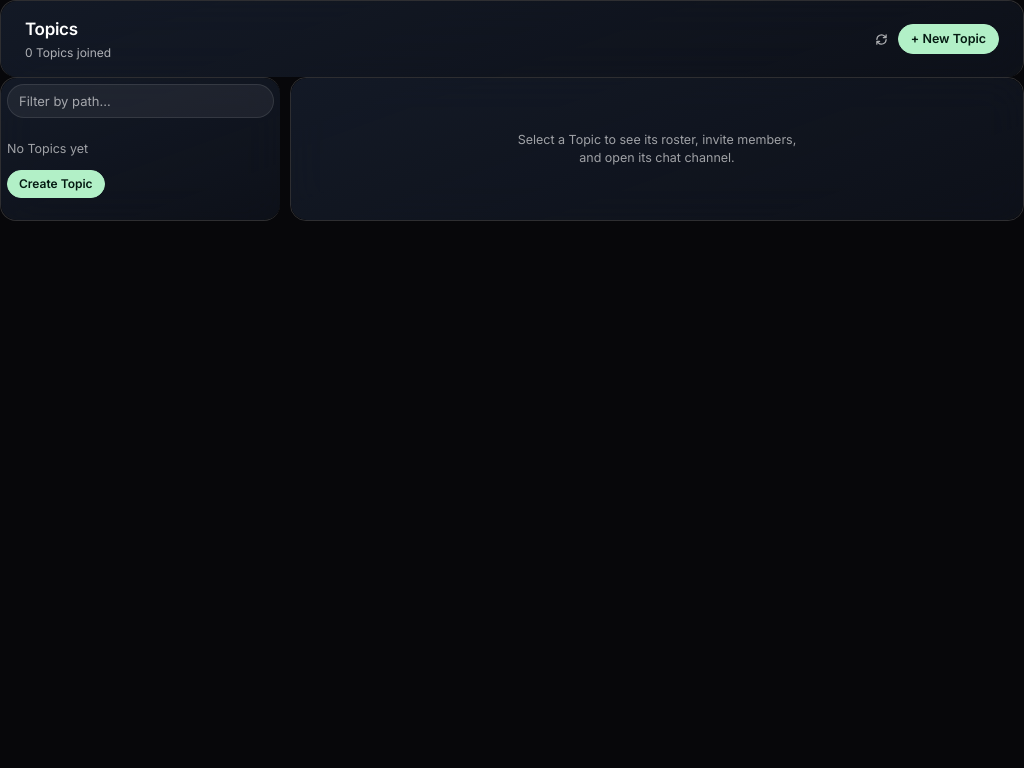
Test: QURATOR-148 — aliveness gates the discovery sidebar › the genuine empty carries a Create Topic action that opens the create modal (QURATOR-390)
Exact accessible name — the toolbar's "+ New Topic" must not satisfy this.
What coordinates should you click on to do the following:
click the button "Create Topic"
I would click on:
 (56, 184)
Its box is x1=7 y1=170 x2=105 y2=198.
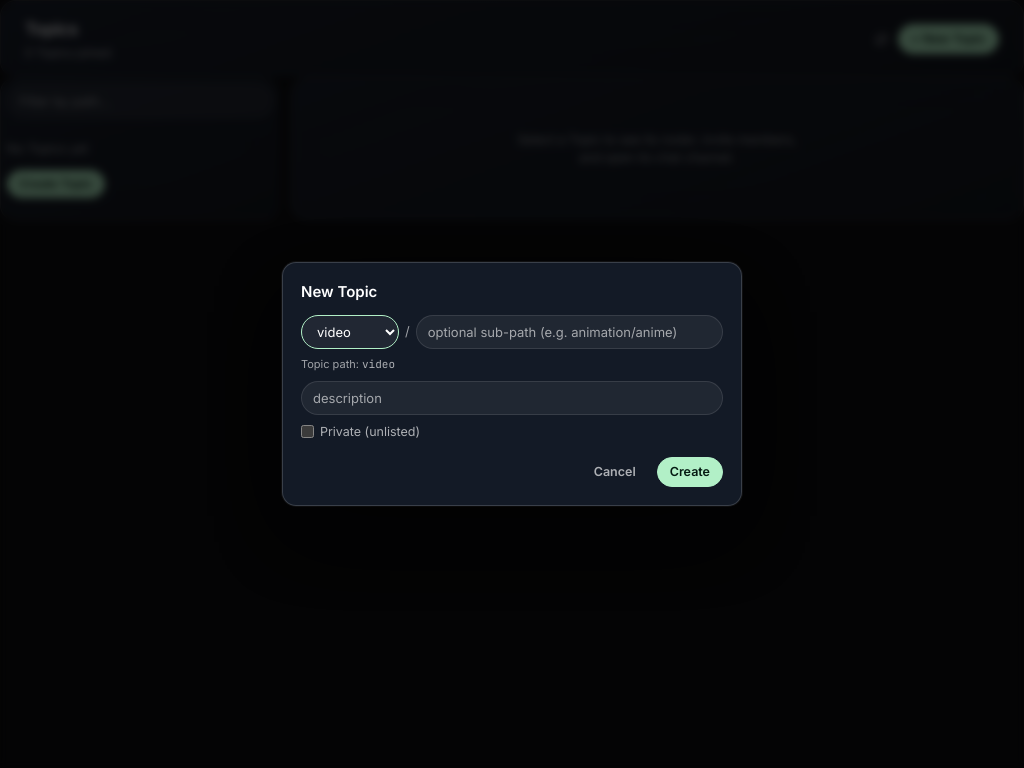
Now the dialog is shown, box x1=282 y1=262 x2=742 y2=506
